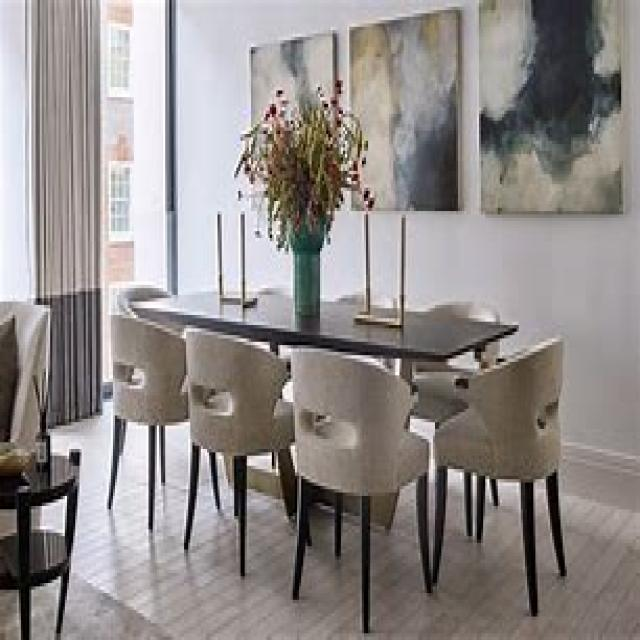chair: (431, 335, 567, 617)
table: (127, 285, 518, 580)
